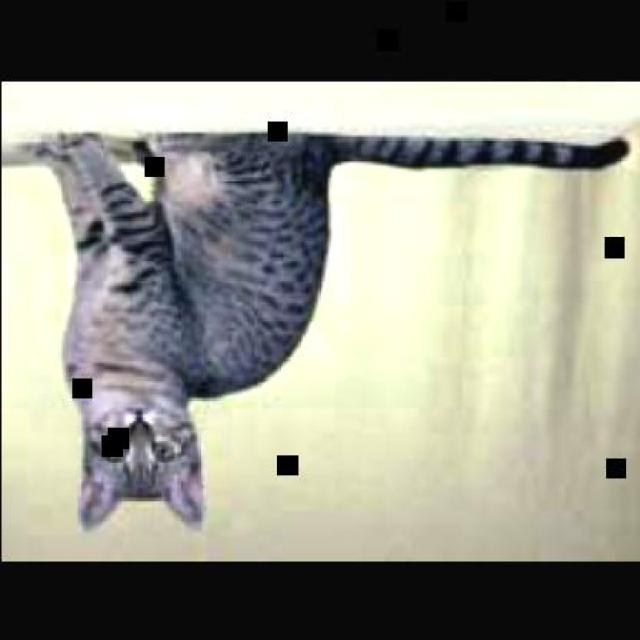unauthorized: (17, 128, 631, 530)
